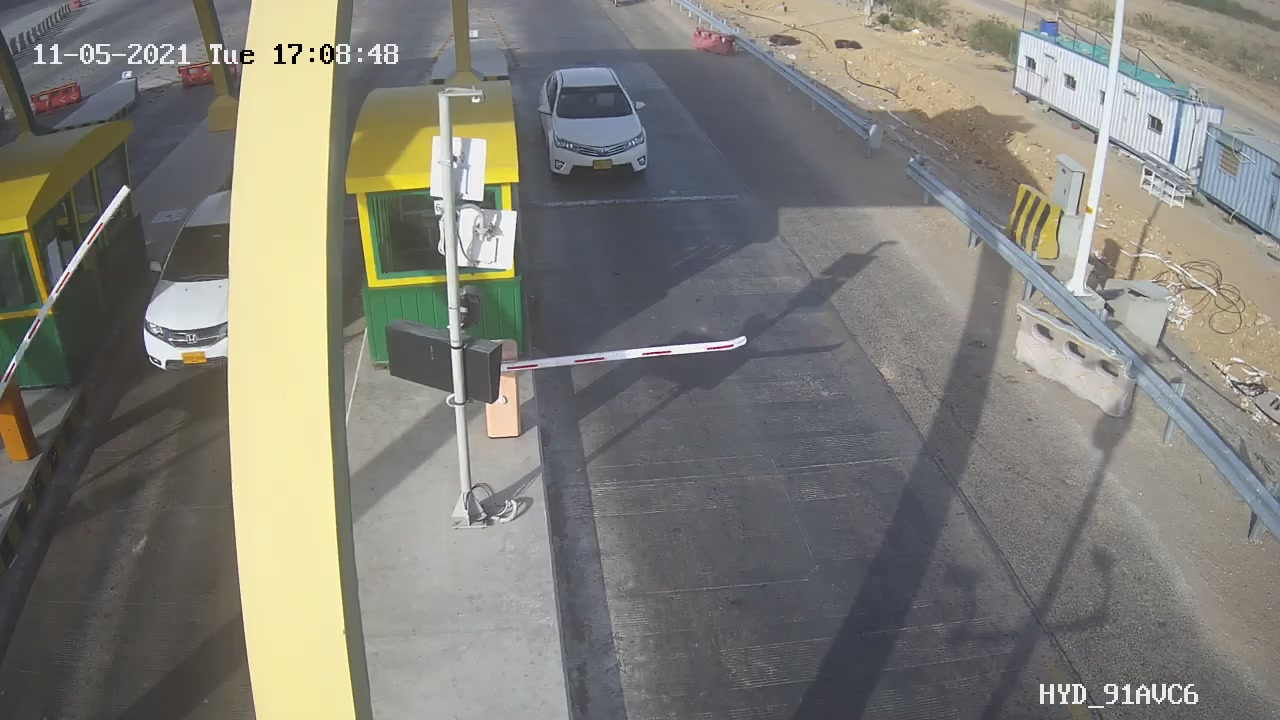F1: (518, 48, 674, 192)
